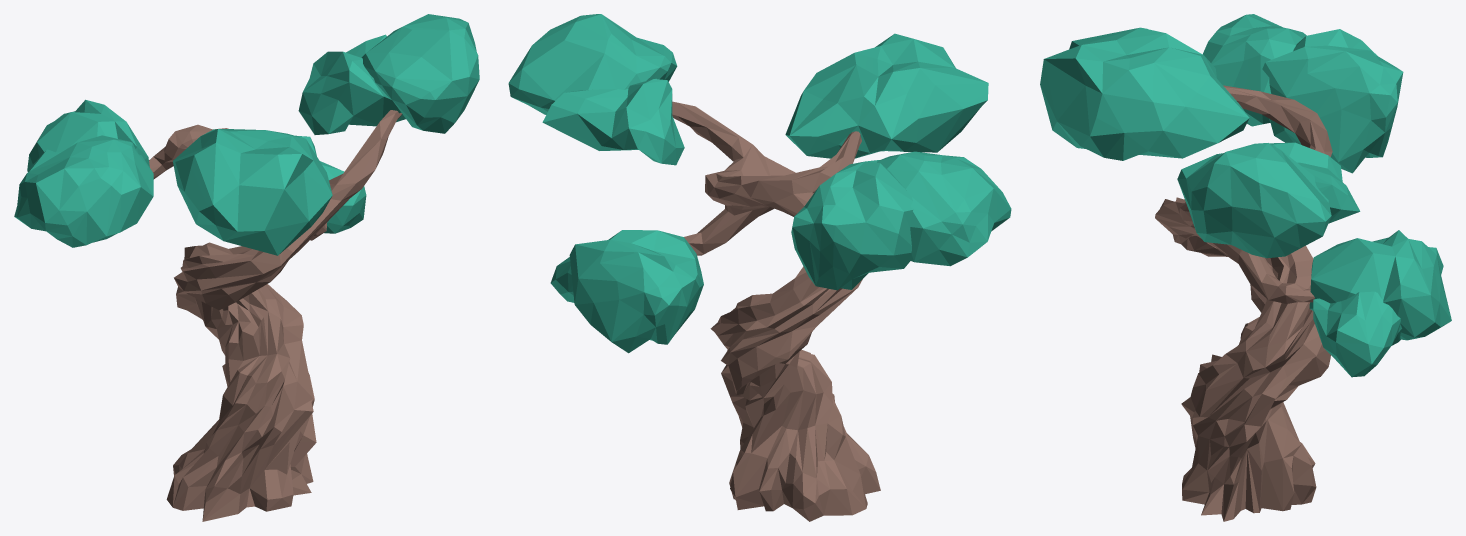
Rendered from fantasy_plant_041.fbx.
The picture shows the model from 3 angles, left to right: view 1: azimuth 30°, elevation 25°; view 2: azimuth 150°, elevation 25°; view 3: azimuth 270°, elevation 25°; orthographic projection. The views are drawn at different scales.
Visible parts, largest first — view 1: fantasy_plant.041; view 2: fantasy_plant.041; view 3: fantasy_plant.041.
Part boxes in pixels (x1=…): fantasy_plant.041: x1=14, y1=14, x2=479, y2=521; fantasy_plant.041: x1=508, y1=14, x2=1011, y2=521; fantasy_plant.041: x1=1040, y1=14, x2=1451, y2=521.
Size of the model in its own units: 1738 by 1527 by 1294.
Materials: 1 (1 with a texture image).
